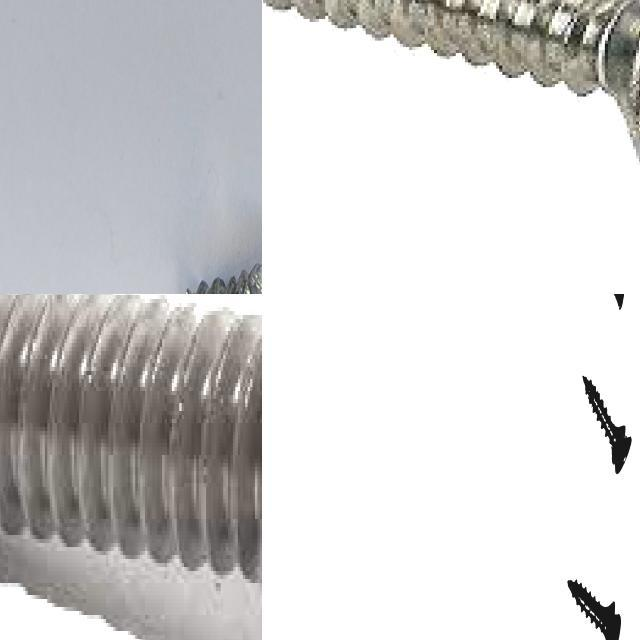Screw: (0, 294, 262, 591), (262, 0, 640, 170), (583, 375, 632, 473), (568, 580, 622, 640)
